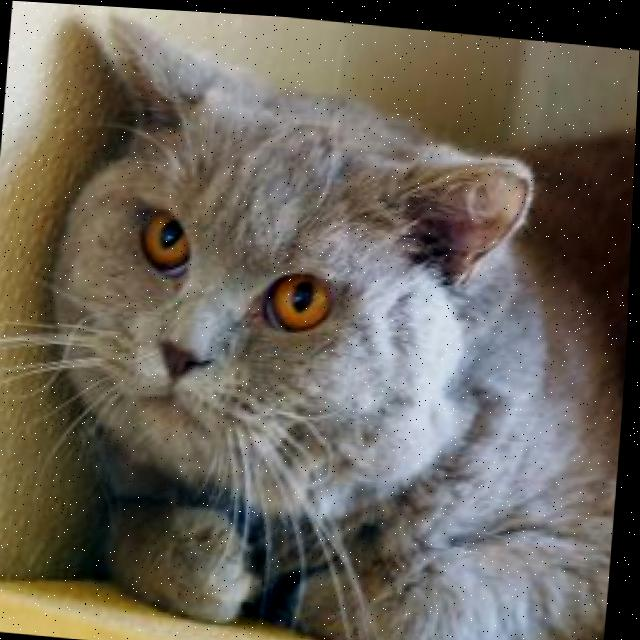British Shorthair: (21, 2, 640, 640)
